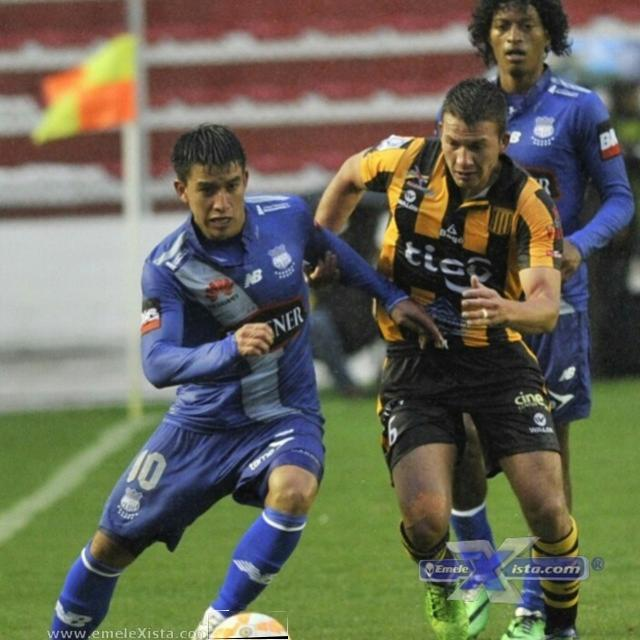Football: (208, 611, 288, 639)
